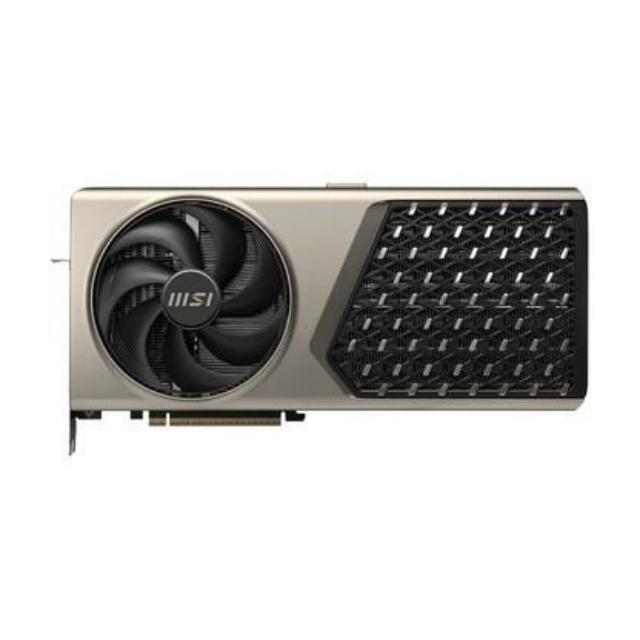GPU: (61, 174, 594, 440)
